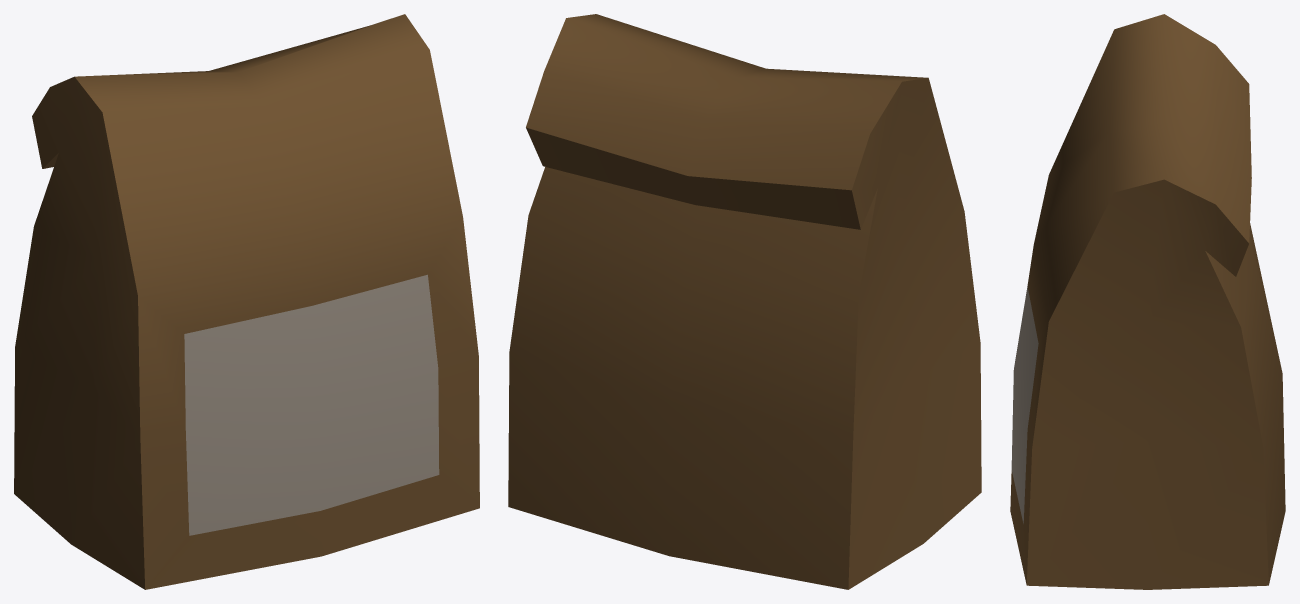
The model's file is bag_01.fbx.
The picture shows the model from 3 angles, left to right: view 1: azimuth 30°, elevation 25°; view 2: azimuth 150°, elevation 25°; view 3: azimuth 270°, elevation 25°; orthographic projection. The views are drawn at different scales.
Parts seen in each view (by area): view 1: bag_01; view 2: bag_01; view 3: bag_01.
Boxes of the visible parts, <box> form: bag_01: <box>14,14,479,589</box>; bag_01: <box>508,14,981,589</box>; bag_01: <box>1010,14,1285,589</box>.
Bounding box in the file's own units: 41.46 × 52.01 × 30.44.
